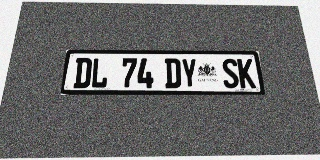4: (137, 58, 153, 88)
7: (120, 58, 137, 88)
D: (73, 58, 92, 88), (165, 58, 181, 88)
K: (237, 59, 256, 88)
L: (90, 58, 109, 88)
S: (221, 59, 240, 88)
Y: (181, 58, 198, 88)
